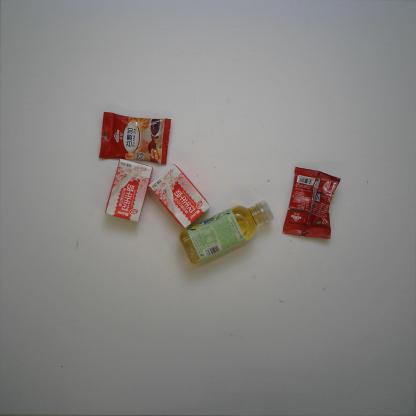Drink: (178, 197, 278, 272)
Instant Drink: (279, 165, 342, 242), (98, 109, 172, 168)
Milk: (146, 162, 210, 233), (102, 154, 154, 228)
